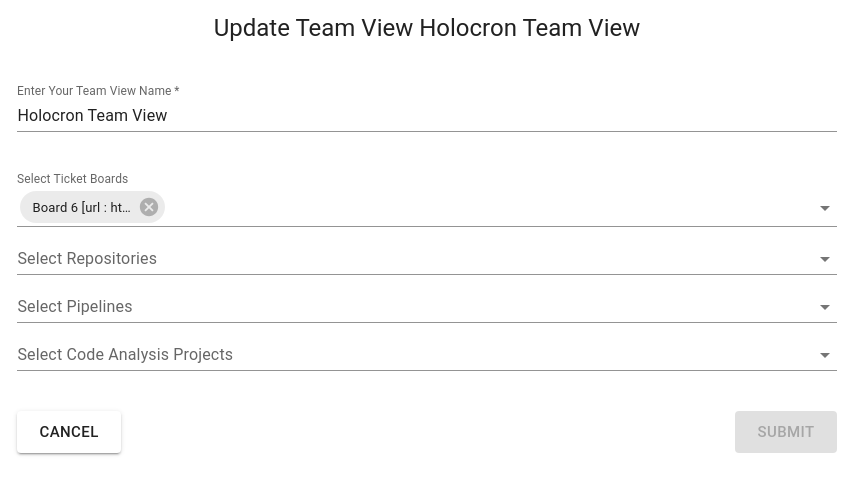
Test: Form validation › repositories field › should allow submission if repositories changes
This screenshot has width=855, height=480.
In the dropdown labelled "Select Repositories": (412, 258) [17,243,807,274], type "Repo 2 [ [url : https://gitlab.com/repo-2]"
Then press Arrowdown, Enter
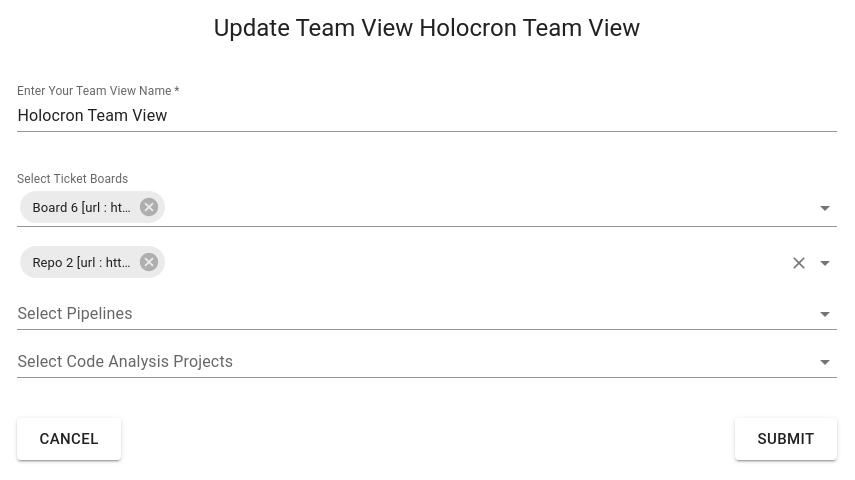
Expected: the button with aria-label "Submit Your Form" is enabled, [735,418,837,460]
